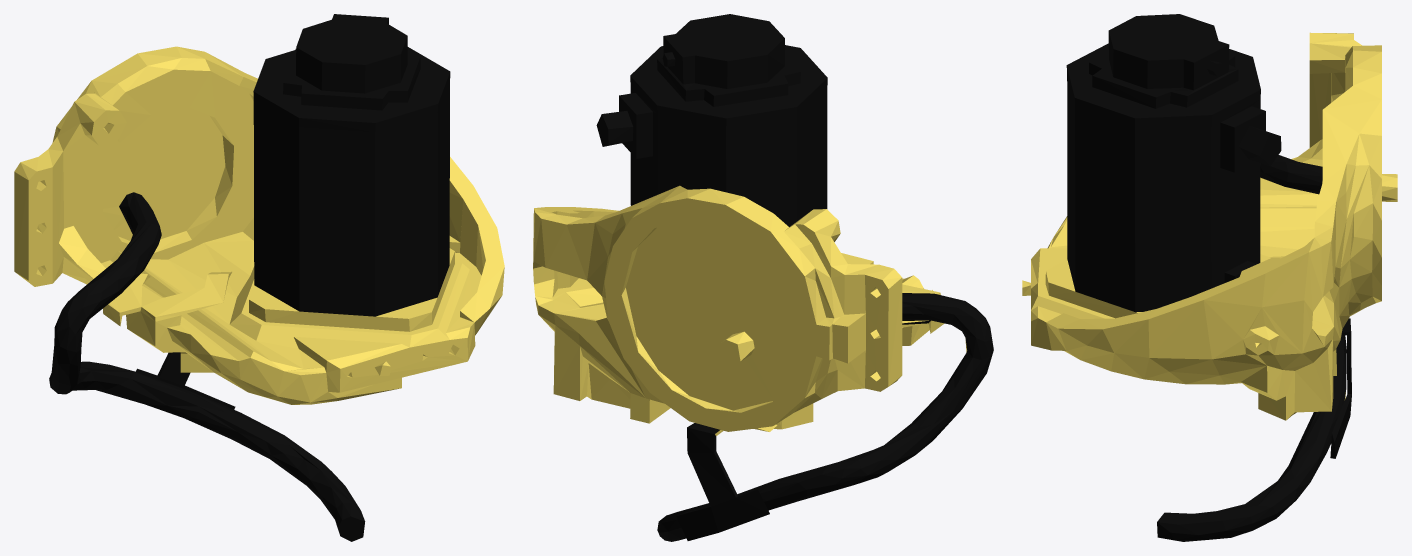
3 views of the same model, side by side, from view 1: azimuth 30°, elevation 25°; view 2: azimuth 150°, elevation 25°; view 3: azimuth 270°, elevation 25° (orthographic). The views are drawn at different scales.
Parts seen in each view (by area): view 1: /Link1/Link1-mesh/0, /Link1/Link1-mesh/1; view 2: /Link1/Link1-mesh/0, /Link1/Link1-mesh/1; view 3: /Link1/Link1-mesh/1, /Link1/Link1-mesh/0.
Boxes of the visible parts, box(x1,y1,x2,y2) form: /Link1/Link1-mesh/0: box(14, 46, 504, 404); /Link1/Link1-mesh/1: box(49, 14, 450, 541); /Link1/Link1-mesh/0: box(533, 185, 967, 435); /Link1/Link1-mesh/1: box(596, 14, 993, 541); /Link1/Link1-mesh/1: box(1066, 14, 1351, 541); /Link1/Link1-mesh/0: box(1022, 32, 1397, 420).
Size of the model in its own units: 0.3435 by 0.3867 by 0.2625.
